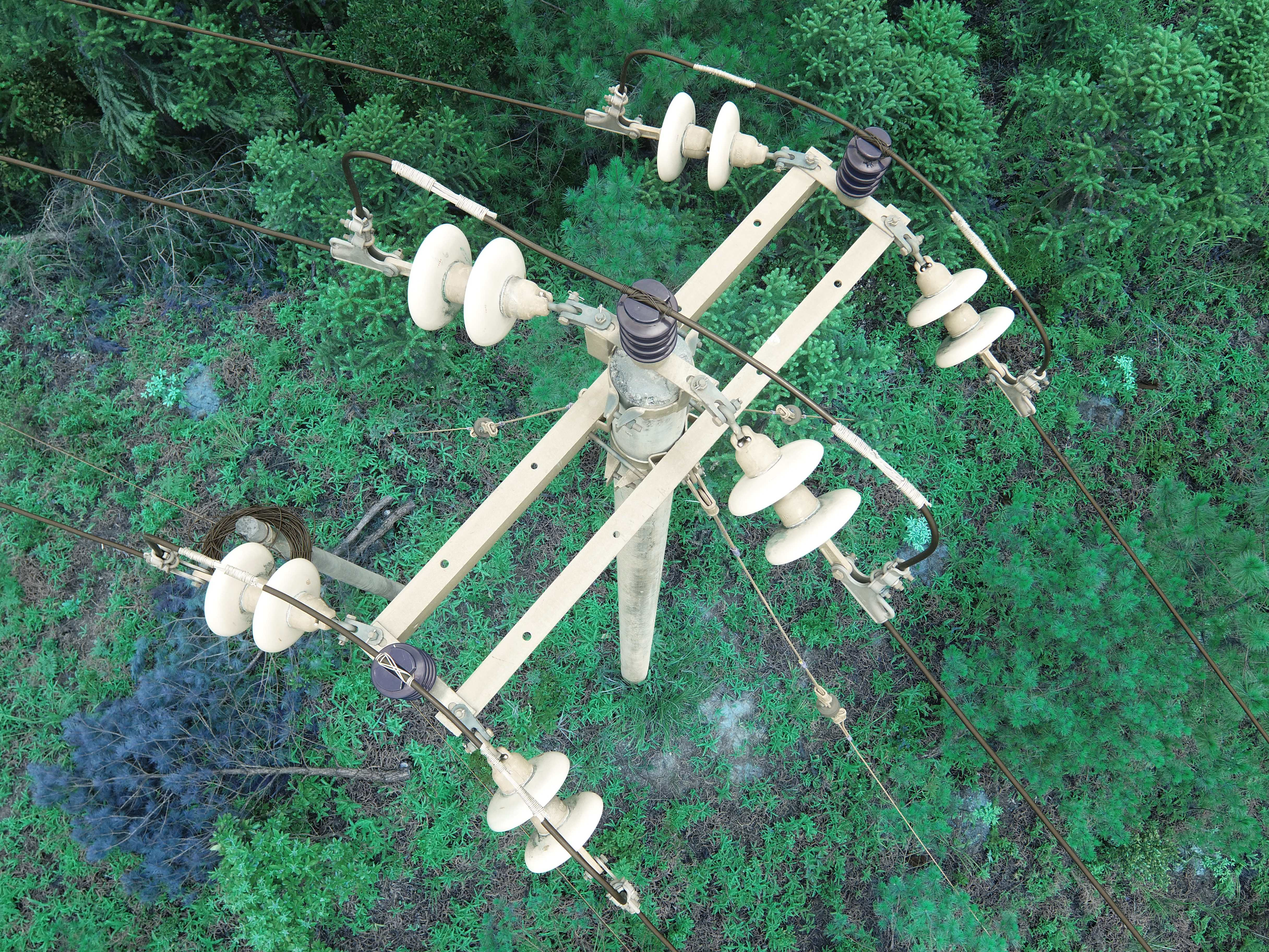severe_soiling_no_discharge_whole: (723, 419, 866, 569), (405, 212, 557, 349), (477, 741, 607, 877), (199, 536, 338, 654), (900, 252, 1017, 372)
